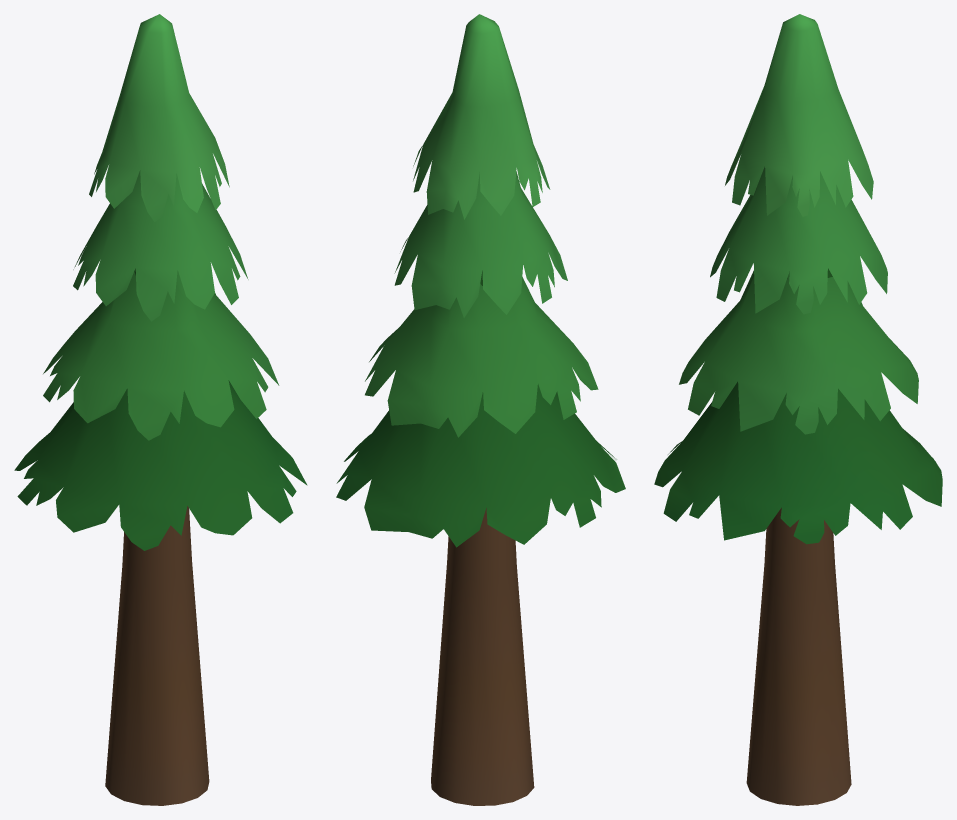
File: pine-06.glb
The picture shows the model from 3 angles, left to right: view 1: azimuth 30°, elevation 25°; view 2: azimuth 150°, elevation 25°; view 3: azimuth 270°, elevation 25°; orthographic projection.
Visible parts, largest first — view 1: pine 06; view 2: pine 06; view 3: pine 06.
Part boxes in pixels (x1,y1,x2,y2): pine 06: (14, 14, 307, 805); pine 06: (336, 14, 625, 805); pine 06: (654, 14, 942, 805).
Bounding box in the file's own units: 0.9934 × 2.93 × 0.9943.
Materials: 1 (1 with a texture image).
